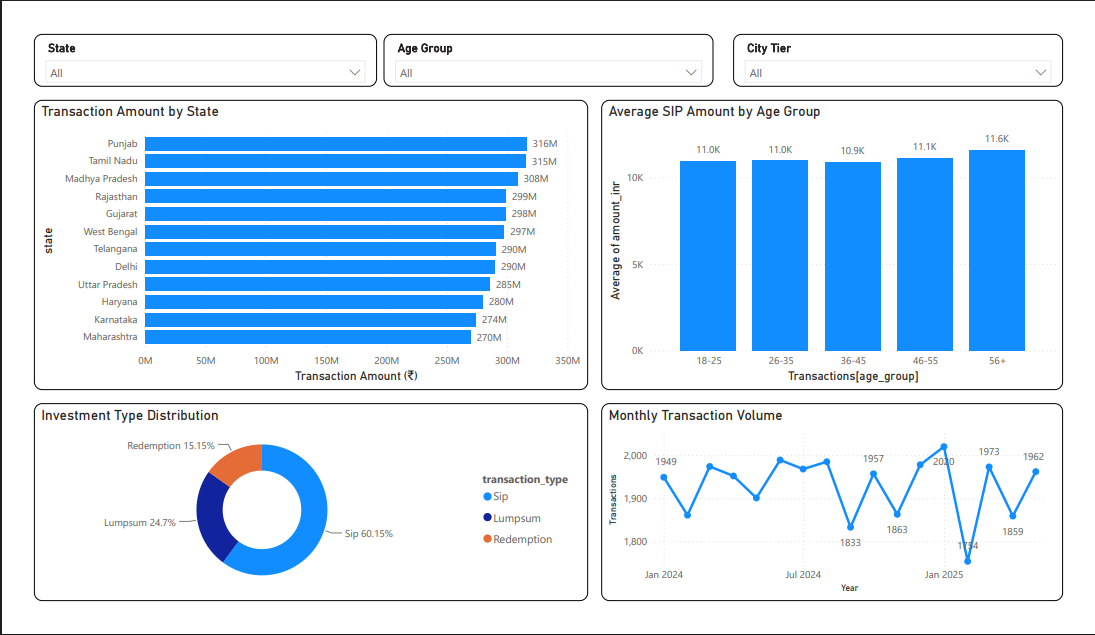

What the dashboard file says about the page in this screenshot:
{"tool":"powerbi","page":{"name":"Investor Analytics","canvas":[1280,720],"ordinal":2},"visuals":[{"type":"slicer","fields":{"Values":["Transactions.state"]},"box":[16,16,416,64],"z":0},{"type":"slicer","fields":{"Values":["Transactions.age_group"]},"box":[440,16,400,64],"z":1000},{"type":"slicer","fields":{"Values":["Transactions.city_tier"]},"box":[864,16,400,64],"z":2000},{"type":"clusteredBarChart","title":"Transaction Amount by State","fields":{"Category":["Transactions.state"],"Y":["Sum(Transactions.amount_inr)"]},"box":[16,96,672,352],"z":3000},{"type":"donutChart","title":"Investment Type Distribution","fields":{"Category":["Transactions.transaction_type"],"Y":["CountNonNull(Transactions.investor_id)"]},"box":[16,464,672,240],"z":4000},{"type":"clusteredColumnChart","title":"Average SIP Amount by Age Group","fields":{"Category":["Transactions.age_group"],"Y":["Avg(Transactions.amount_inr)"]},"box":[704,96,560,352],"z":5000},{"type":"lineChart","title":"Monthly Transaction Volume","fields":{"Y":["CountNonNull(Transactions.investor_id)"],"Category":["Transactions.transaction_date.Variation.Date Hierarchy.Year","Transactions.transaction_date.Variation.Date Hierarchy.Month"]},"box":[704,464,560,240],"z":6000}]}

Visuals, with their boxes on the page's 1280x720 design canvas (x1, y1, x2, y2). These are canvas units, not pixel positions in the 1095x635 screenshot, which may show the page scaled, cropped or inside an application window:
slicer - Transactions.state: bbox=(16, 16, 432, 80)
slicer - Transactions.age_group: bbox=(440, 16, 840, 80)
slicer - Transactions.city_tier: bbox=(864, 16, 1264, 80)
"Transaction Amount by State" clusteredBarChart: bbox=(16, 96, 688, 448)
"Investment Type Distribution" donutChart: bbox=(16, 464, 688, 704)
"Average SIP Amount by Age Group" clusteredColumnChart: bbox=(704, 96, 1264, 448)
"Monthly Transaction Volume" lineChart: bbox=(704, 464, 1264, 704)
